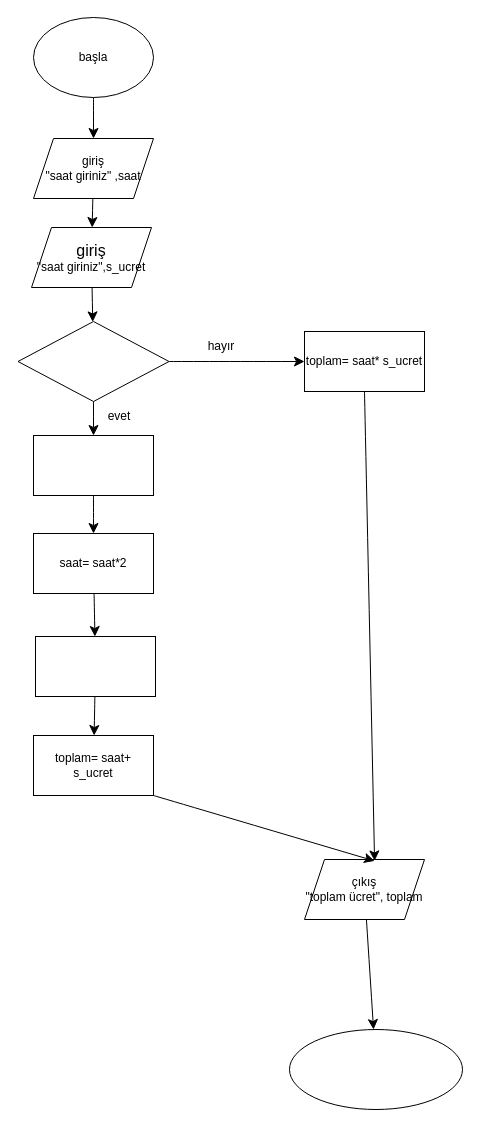
The diagram is 480 pixels wide and 1127 high, and some of its shapes have lost their labels. The centre of each missing label's shape, as x and y in pixels:
"dur" goes at point (375, 1069).
"saat >40" goes at point (93, 361).
"saat= saat+40" goes at point (95, 666).
"saat= saat-40" goes at point (93, 465).
